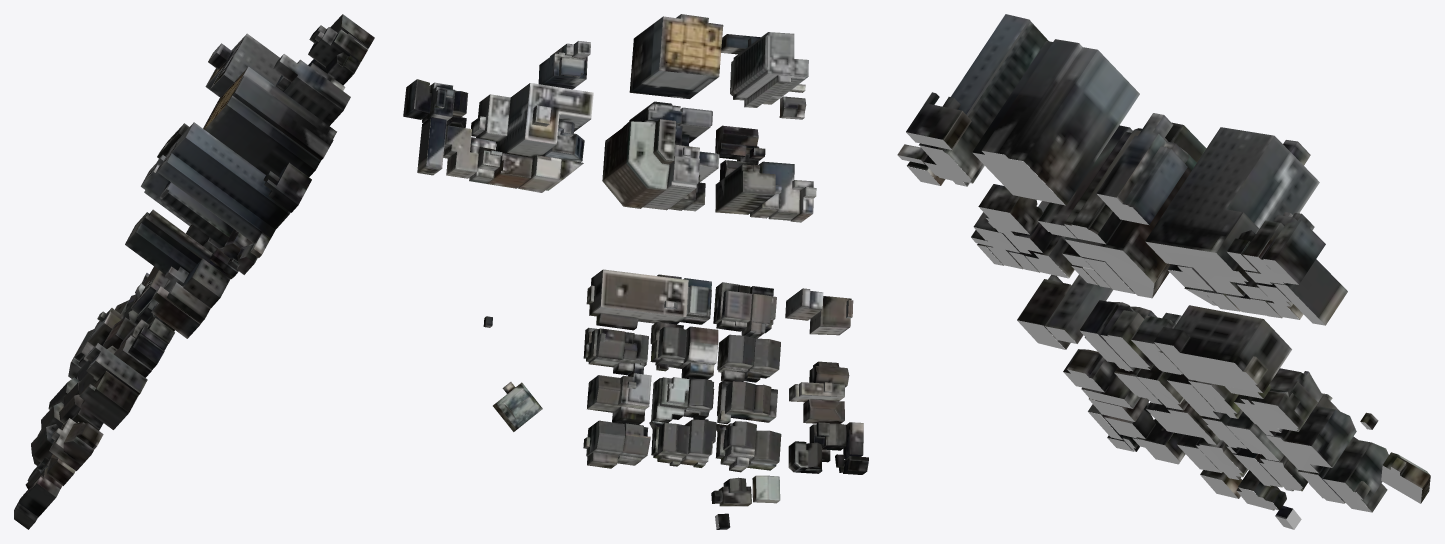
3 renders of one model, left to right at view 1: azimuth 30°, elevation 25°; view 2: azimuth 150°, elevation 25°; view 3: azimuth 270°, elevation 25°, orthographic. The views are drawn at different scales.
Bounding box in the file's own units: 146 × 147 × 126.
2 materials, 1 textured.
